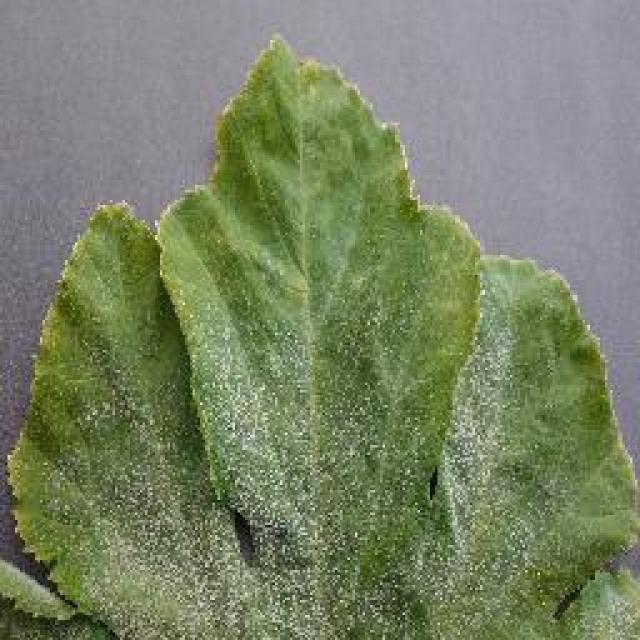Squ_Powdery_mildew: (66, 276, 571, 637)
